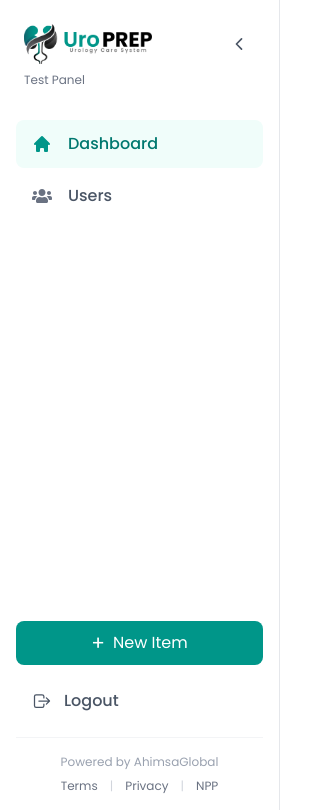
Test case: BaseSidebar › hides powered by text when collapsed
Click the button named "Collapse sidebar" at (239, 44), box [223,28,255,60]
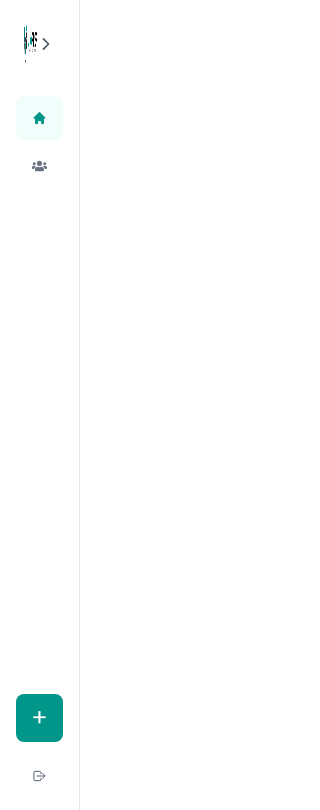
Expected: the text "Powered by AhimsaGlobal" is gone
